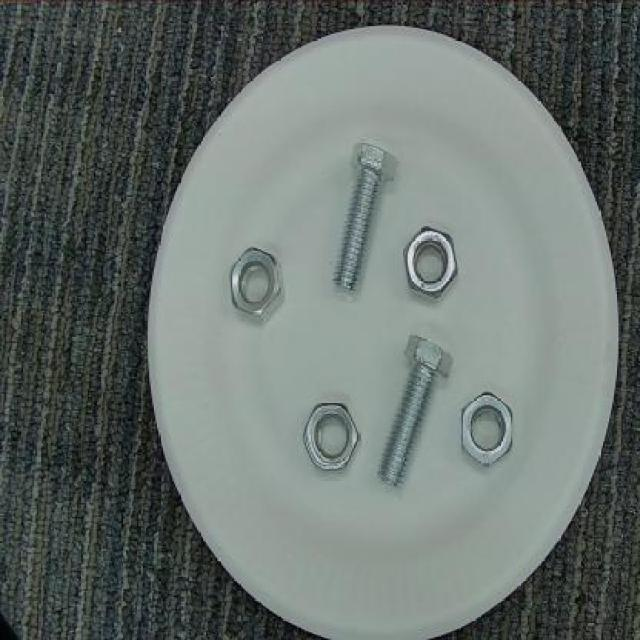Bolt: (376, 334, 456, 492), (331, 137, 402, 300)
Nut: (458, 388, 517, 469), (227, 244, 285, 322), (302, 397, 359, 475), (404, 223, 458, 302)
